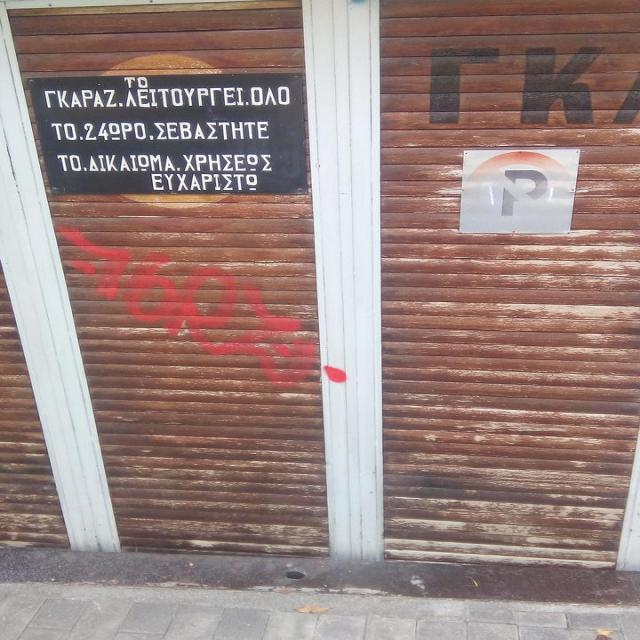nonspitting: (58, 224, 350, 389)
